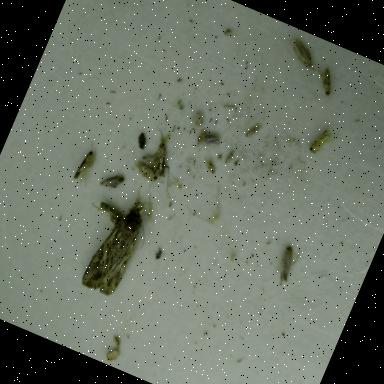abw: (79, 198, 155, 302)
pbw: (262, 236, 302, 284), (282, 37, 326, 78), (142, 128, 178, 178), (71, 140, 102, 188), (307, 121, 343, 162), (308, 63, 339, 104), (86, 196, 126, 227), (97, 166, 125, 194), (130, 161, 160, 183), (196, 126, 222, 150)
